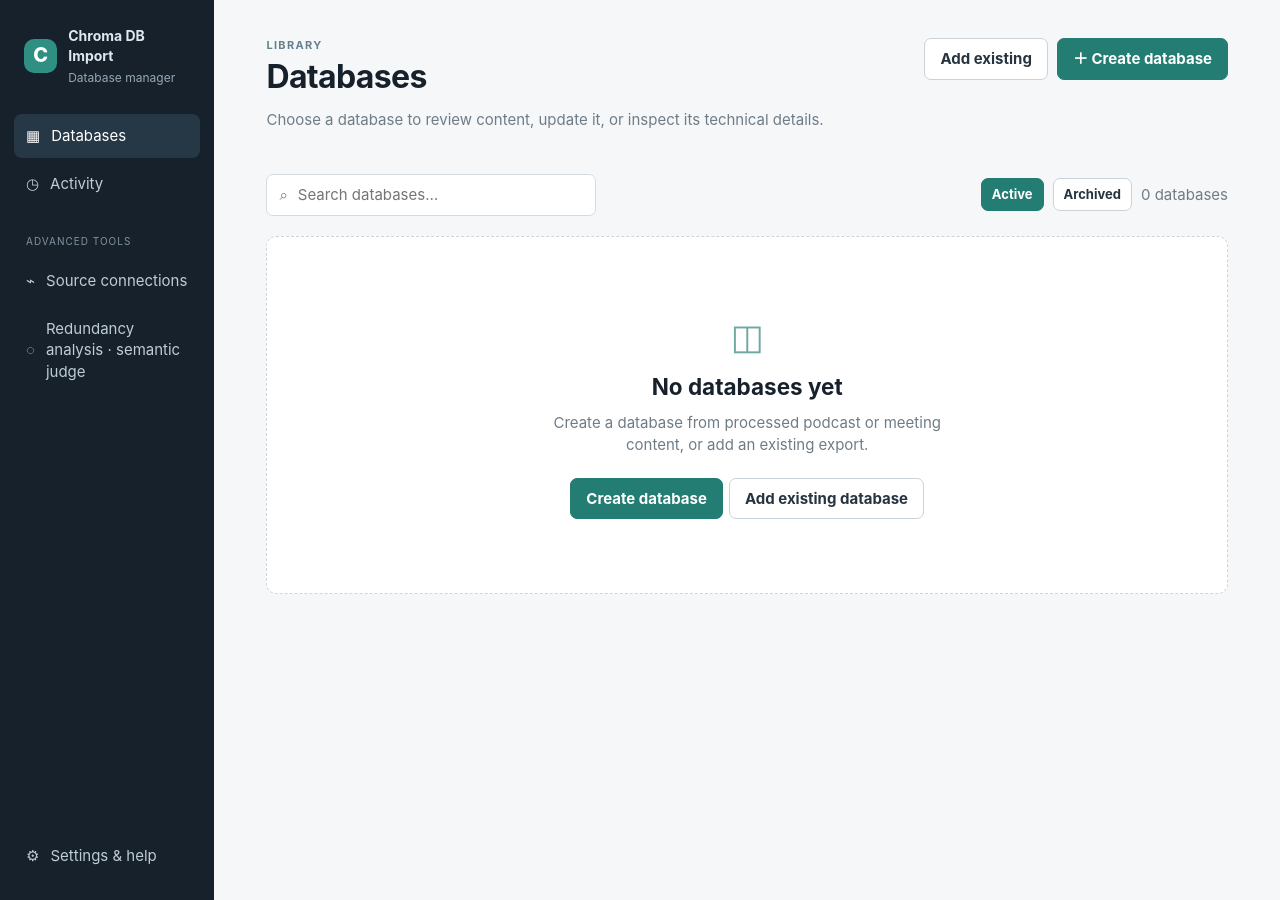
Test: modern database creation flow › opens redundancy analysis as an explicit advisory advanced area
Expected: the heading "No databases yet" is shown, [652, 373, 843, 400]
Click the button "◌ Redundancy analysis · semantic judge": (107, 350) [14, 307, 200, 394]
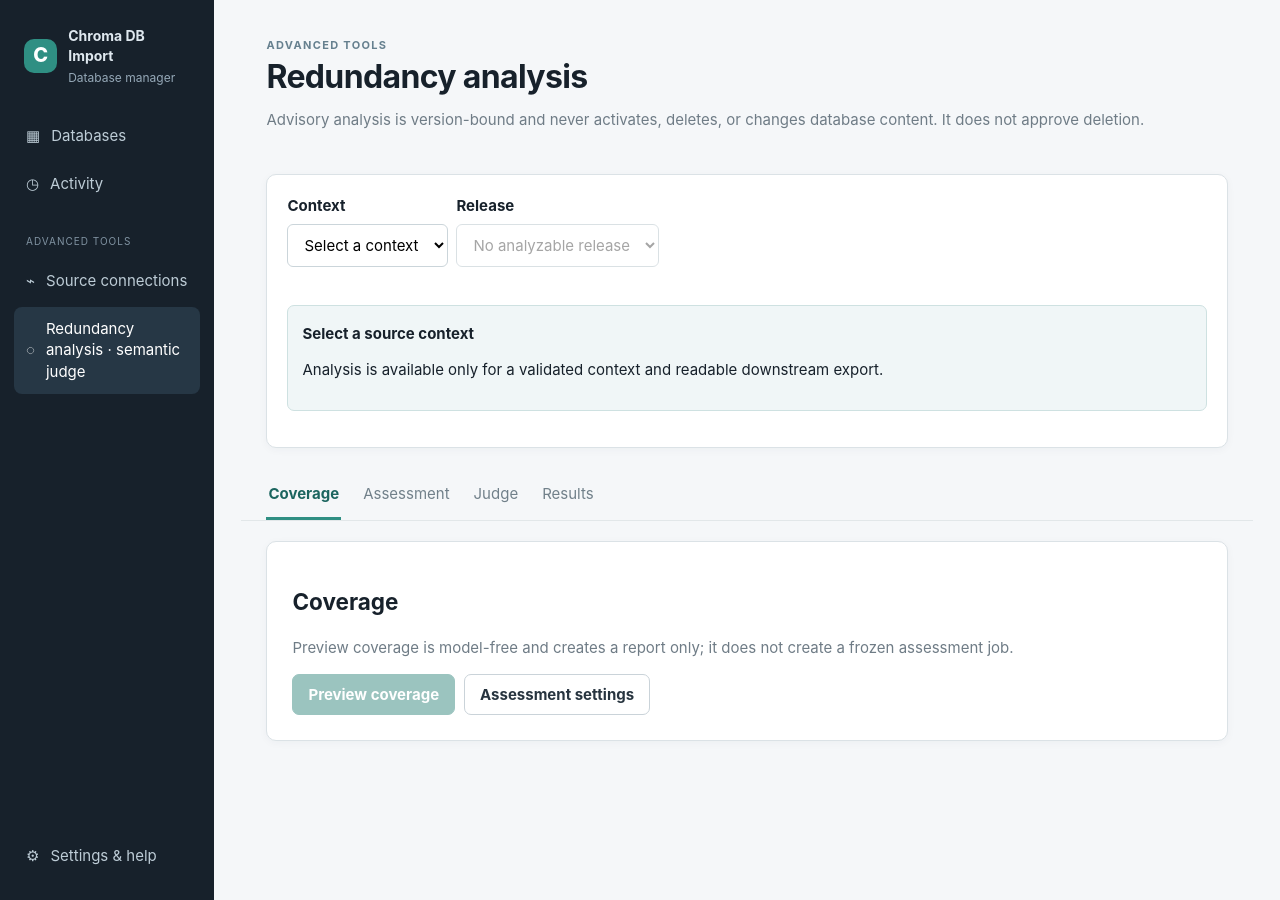
Now the heading "Redundancy analysis" is shown, box [266, 57, 588, 96]
Now the text "Select a source context" is shown, box [302, 324, 474, 343]
Now the text "does not approve deletion" is shown, box [266, 110, 1144, 129]
